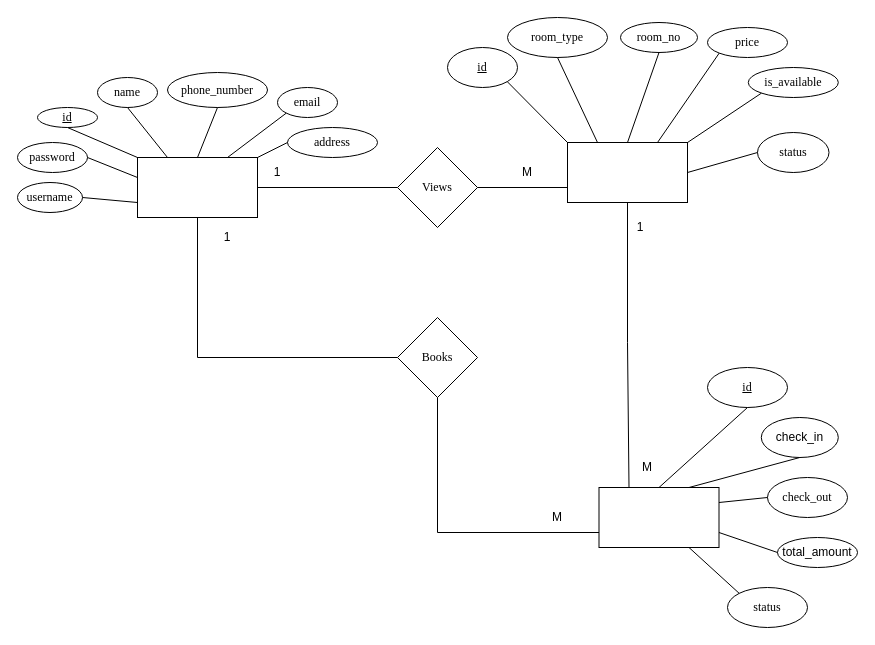
The diagram is 875 pixels wide and 645 high, and some of its shapes have lost their labels. Each missing label, with the centre of its shape:
"Booking" belongs at point 658,517.
"Room" belongs at point 627,172.
"Users" belongs at point 197,187.
